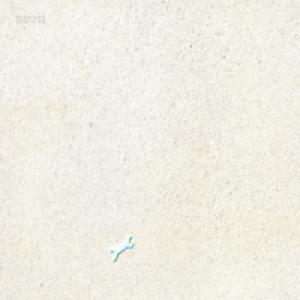Wrench: (110, 232, 133, 261)
